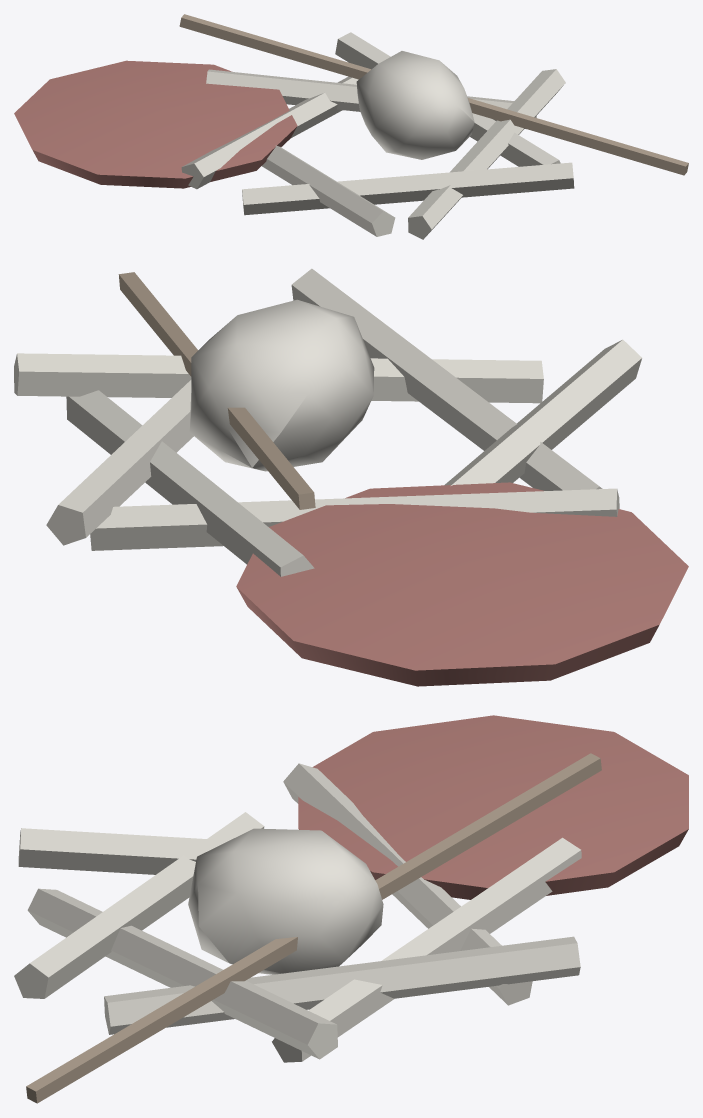
The model's file is bone_pile.gltf.
3 renders of one model, top to bottom at view 1: azimuth 30°, elevation 25°; view 2: azimuth 150°, elevation 25°; view 3: azimuth 270°, elevation 25°, orthographic. The views are drawn at different scales.
Visible parts, largest first — view 1: Body; view 2: Body; view 3: Body.
Boxes of the visible parts, left/top/right/bottom form: Body: left=14, top=14, right=688, bottom=239; Body: left=14, top=268, right=688, bottom=686; Body: left=14, top=715, right=688, bottom=1103.
Bounding box in the file's own units: 1.61 × 0.294 × 1.31.
